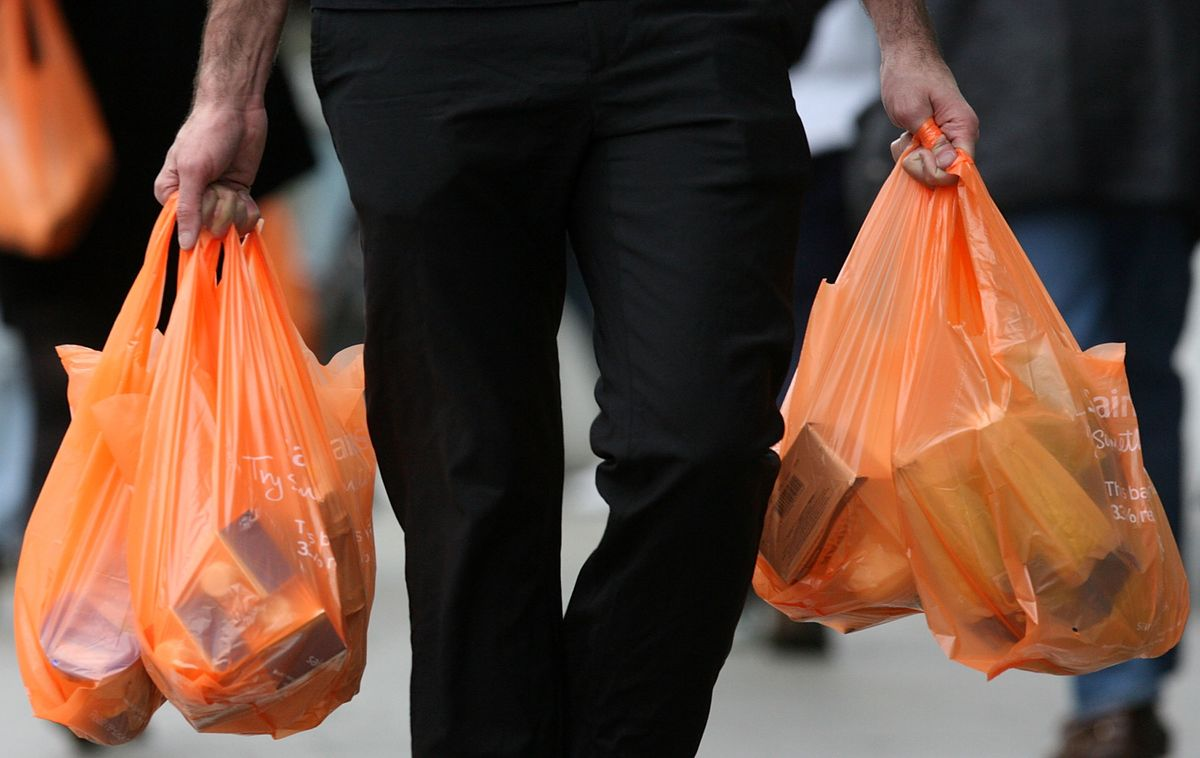PlasticBag: (754, 134, 1191, 672), (21, 211, 363, 739)
